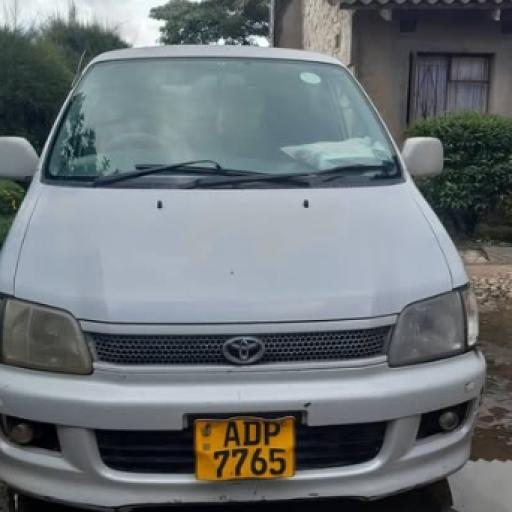number-plates: (196, 411, 288, 479)
